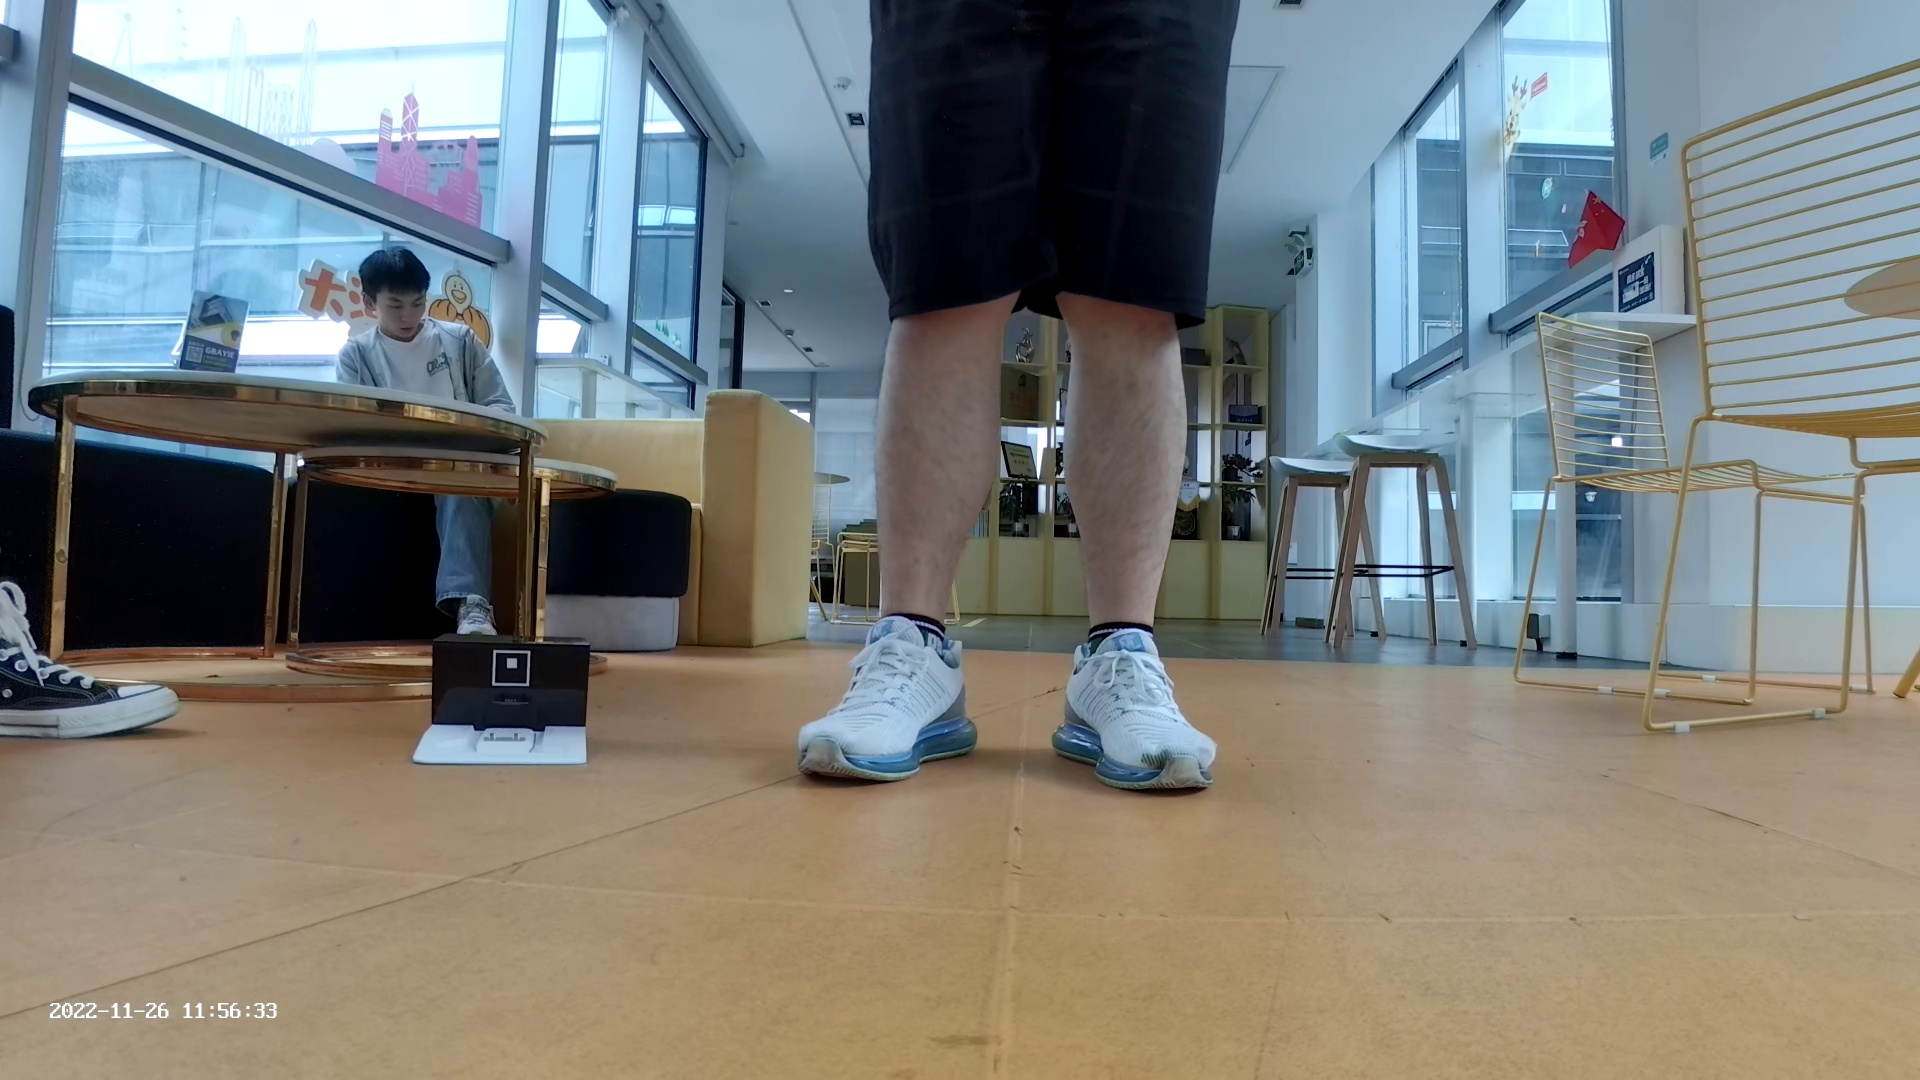face: (373, 274, 425, 336)
person: (794, 2, 1245, 789), (329, 241, 561, 635)
